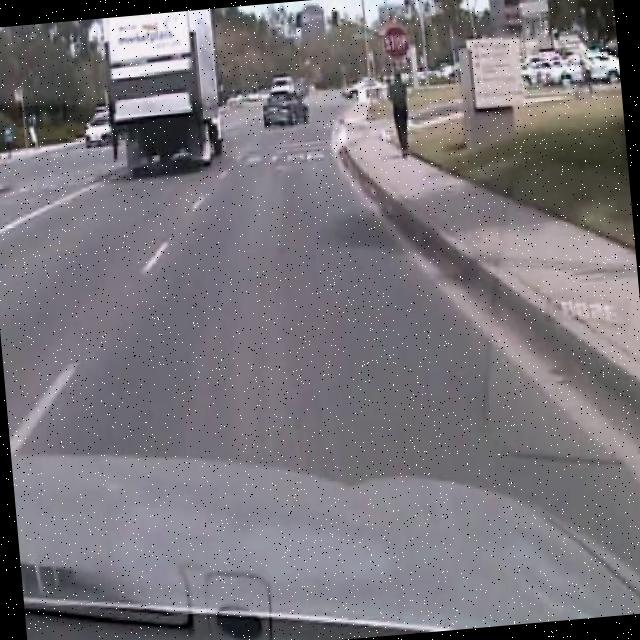Stop: (378, 22, 412, 62)
